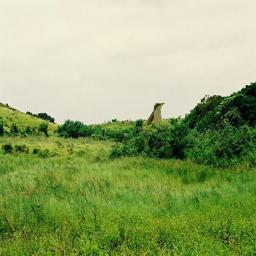Cuckoo: (138, 102, 165, 134)
